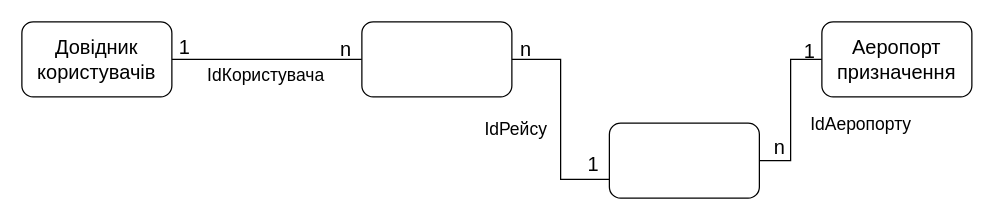
This 994x220 diagram has some shape labels left out. Here are the shapes that lost their labels. From the top down, the box of each, then its label:
(361, 21, 512, 97): Зам овлення квитка
(608, 122, 759, 198): Рейс
